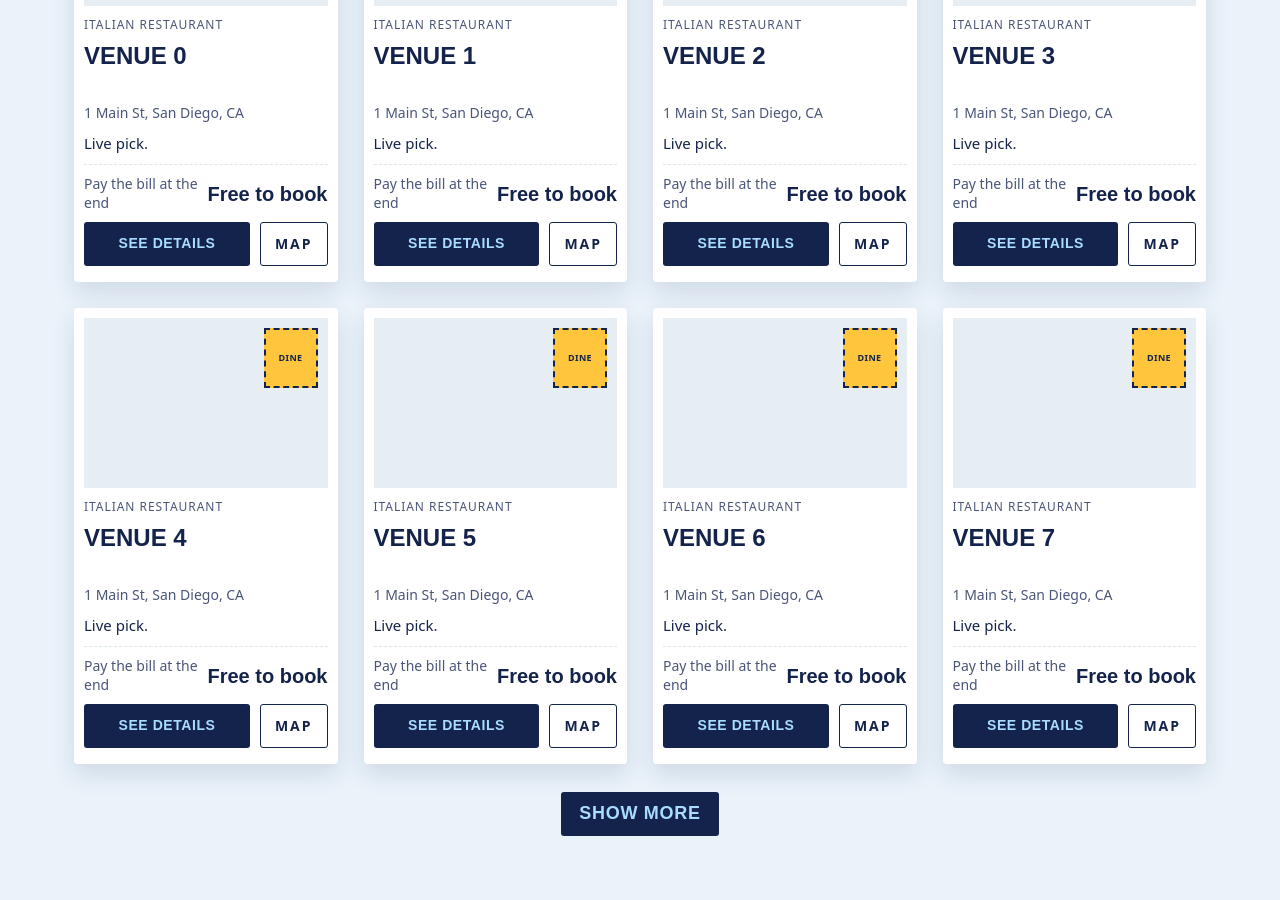
Test: PlanView › 2 rows of 4, then Show more › boundary: 9 options shows the button once, then the 9th
(page scrolled)
Click the button "Show more".
click(640, 814)  # box [561,792,719,836]
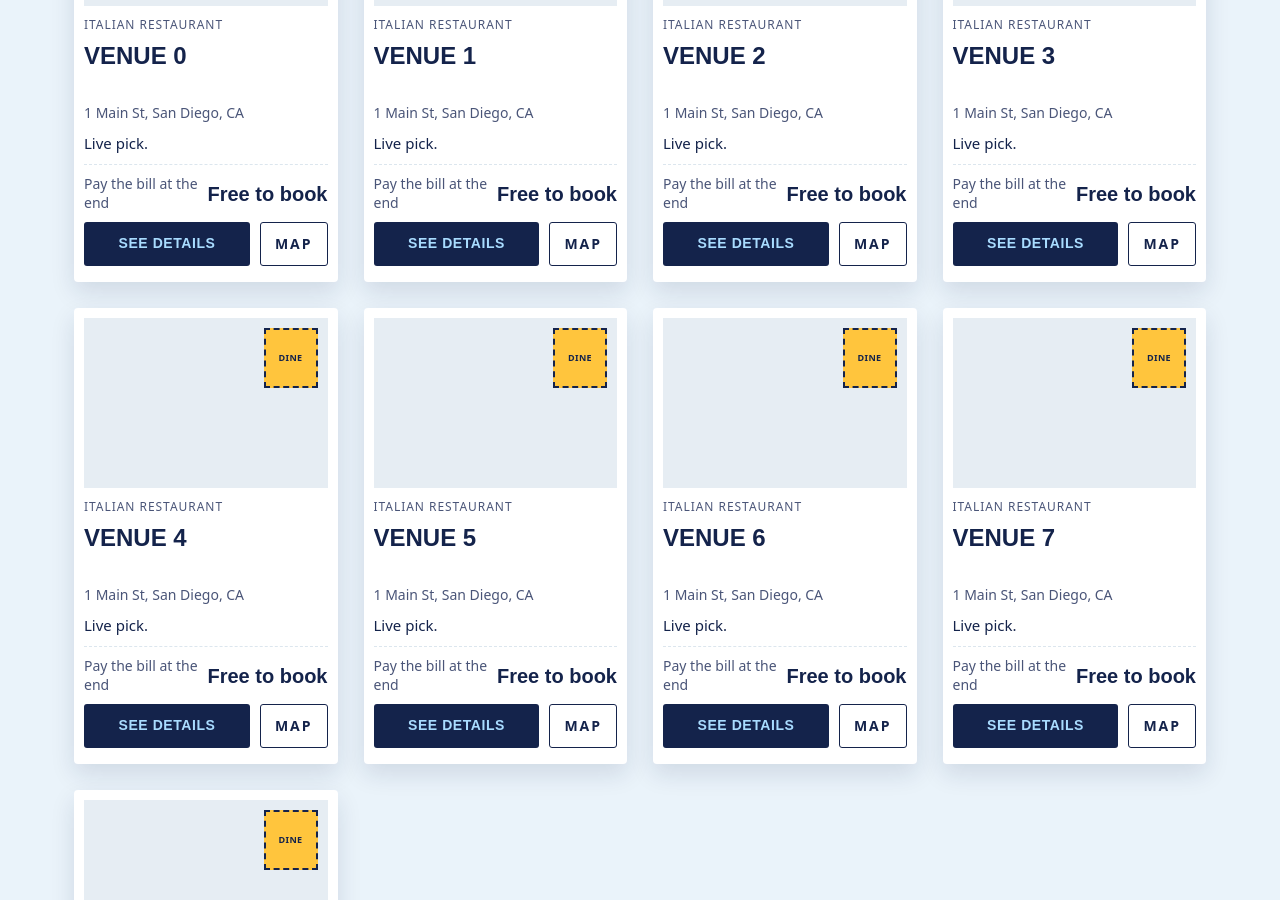
Check: the button "Show more" is gone
